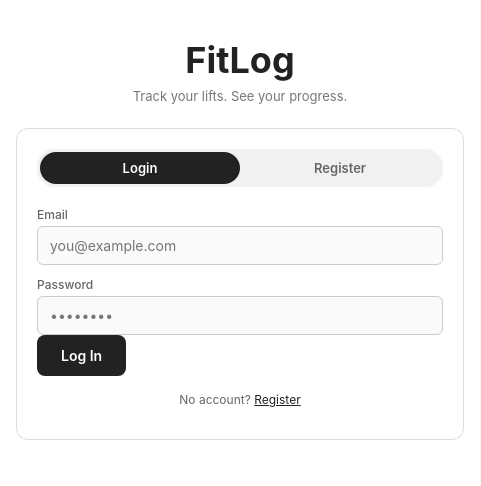
Test case: Login page › shows error for invalid email
The width and height of the screenshot is (481, 486).
Type "notvalid" into the field with placeholder "you@example.com" at (240, 246), box [37,226,443,265]
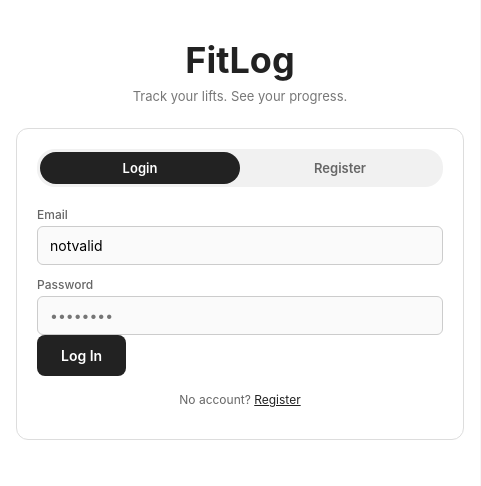
Type "something" into the password field with placeholder "••••••••" at (240, 316), box [37,296,443,335]
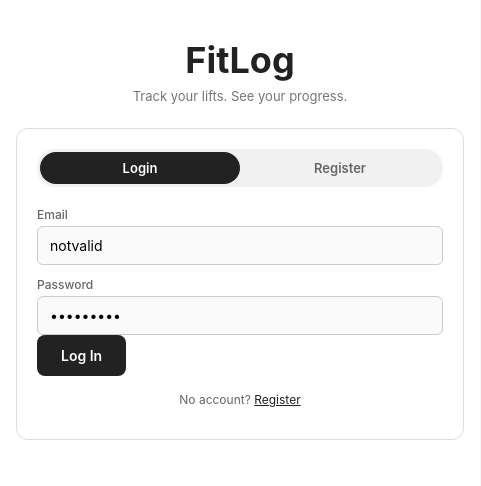
Click the button "Log In" at (82, 356), box [37,335,126,376]
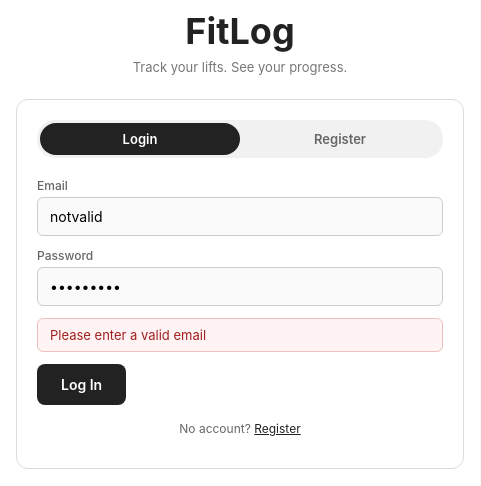
Check: the text "Please enter a valid email" is shown, box [37,318,443,352]
